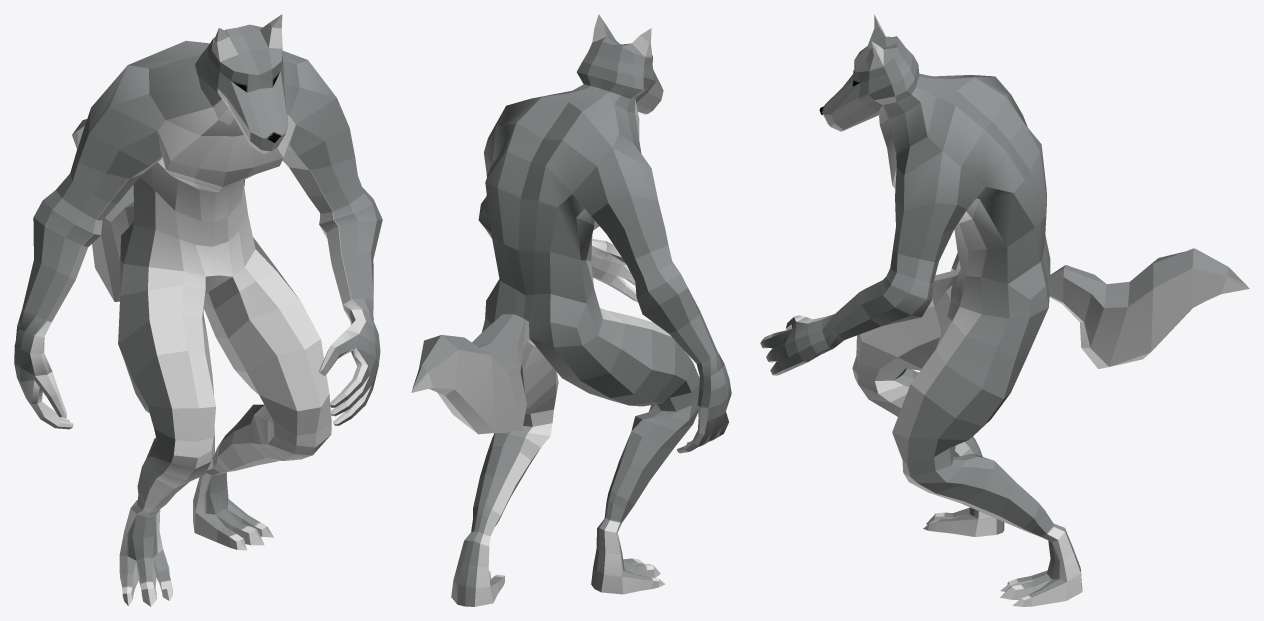
The model's file is WolfWalk(22).obj.
3 renders of one model, left to right at view 1: azimuth 30°, elevation 25°; view 2: azimuth 150°, elevation 25°; view 3: azimuth 270°, elevation 25°, orthographic. The views are drawn at different scales.
Parts seen in each view (by area): view 1: Box001; view 2: Box001; view 3: Box001.
Part boxes in pixels (x1=…): Box001: x1=14, y1=14, x2=382, y2=606; Box001: x1=411, y1=14, x2=731, y2=606; Box001: x1=760, y1=14, x2=1249, y2=606.
Bounding box in the file's own units: 75.96 × 137 × 114.
